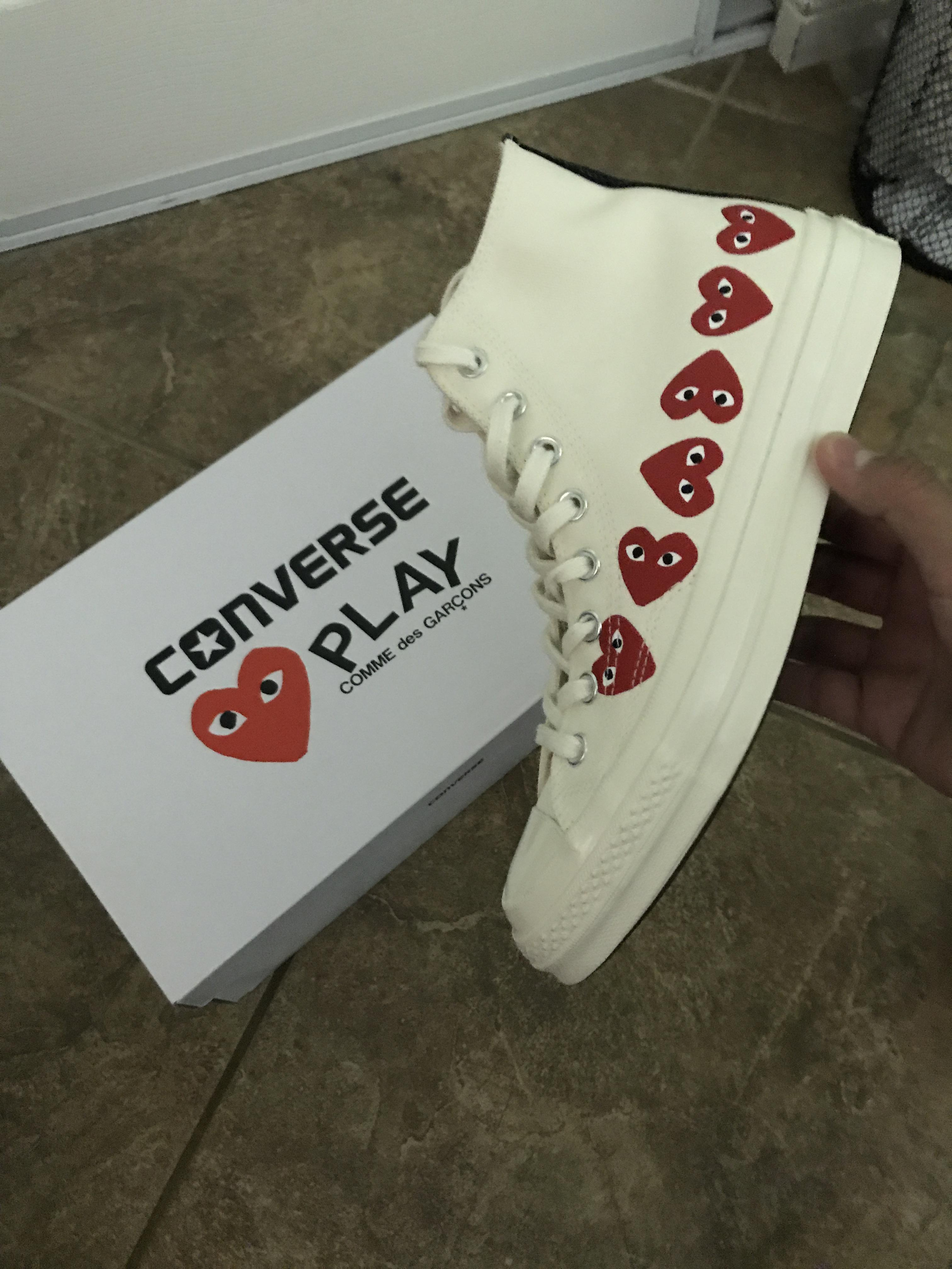sneaker: (421, 138, 904, 988)
